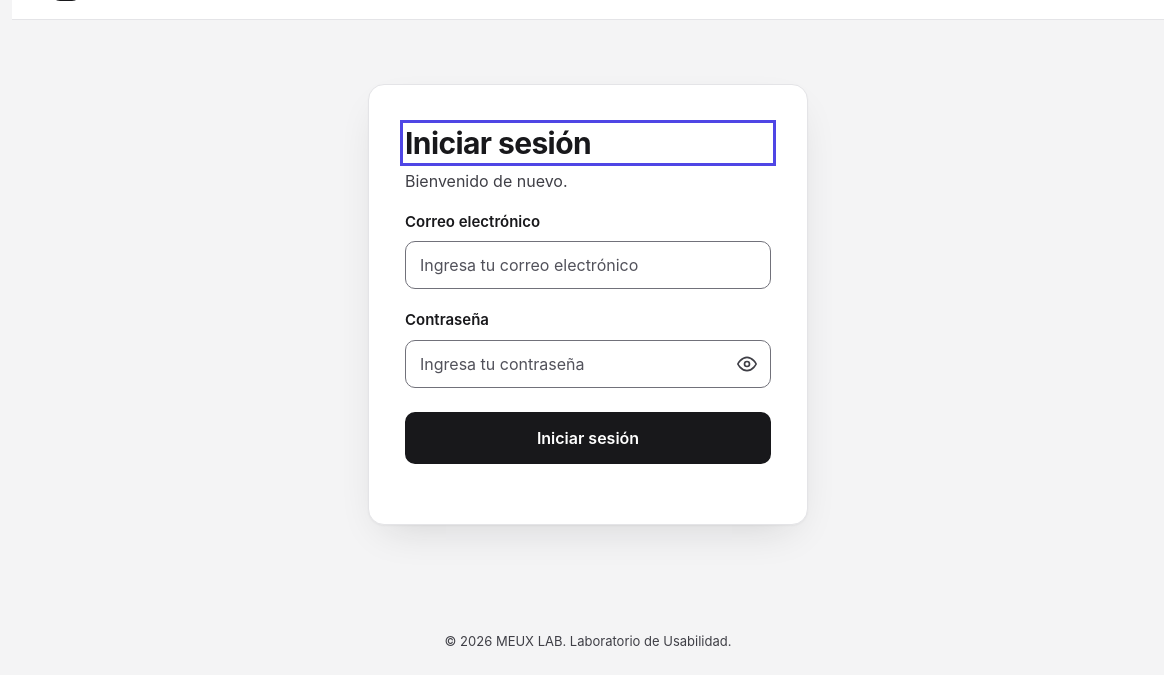
Test case: LoginScreen › displays a general message with role='alert' in response to a 401 error
The width and height of the screenshot is (1164, 675).
Type "usuario@correo.com" into the field labelled "Correo electrónico" at (588,265), box 405,241 -> 771,289
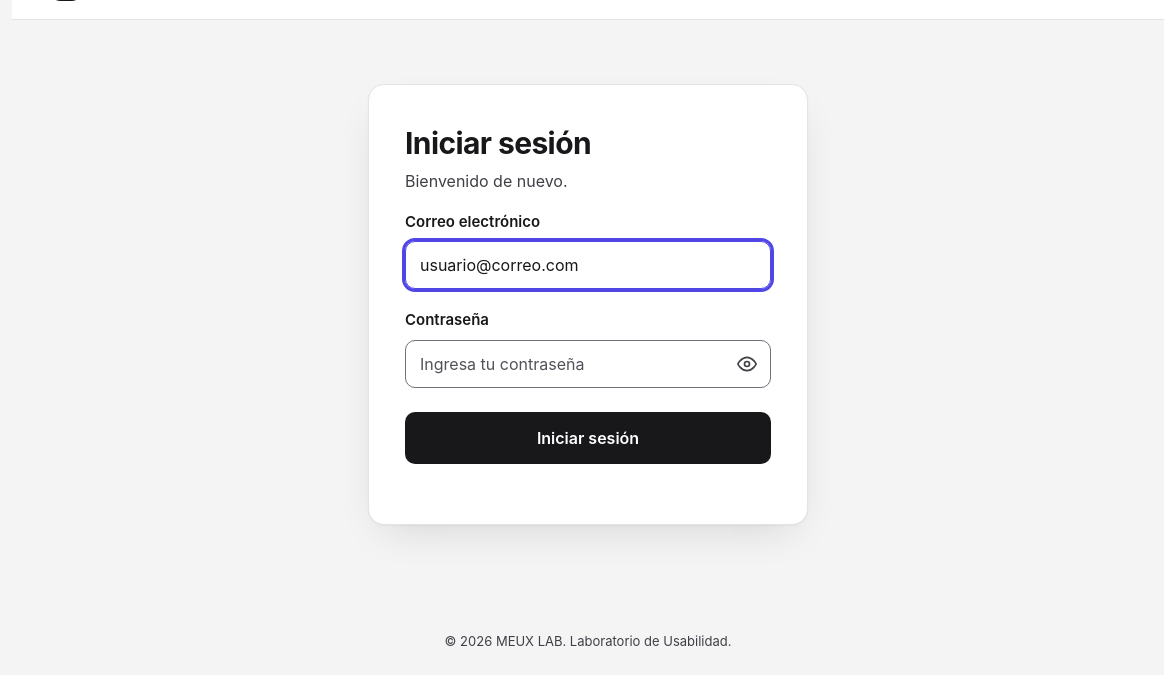
Type "clave-malvada" into the password field labelled "Contraseña" at (588,364), box 405,340 -> 771,388
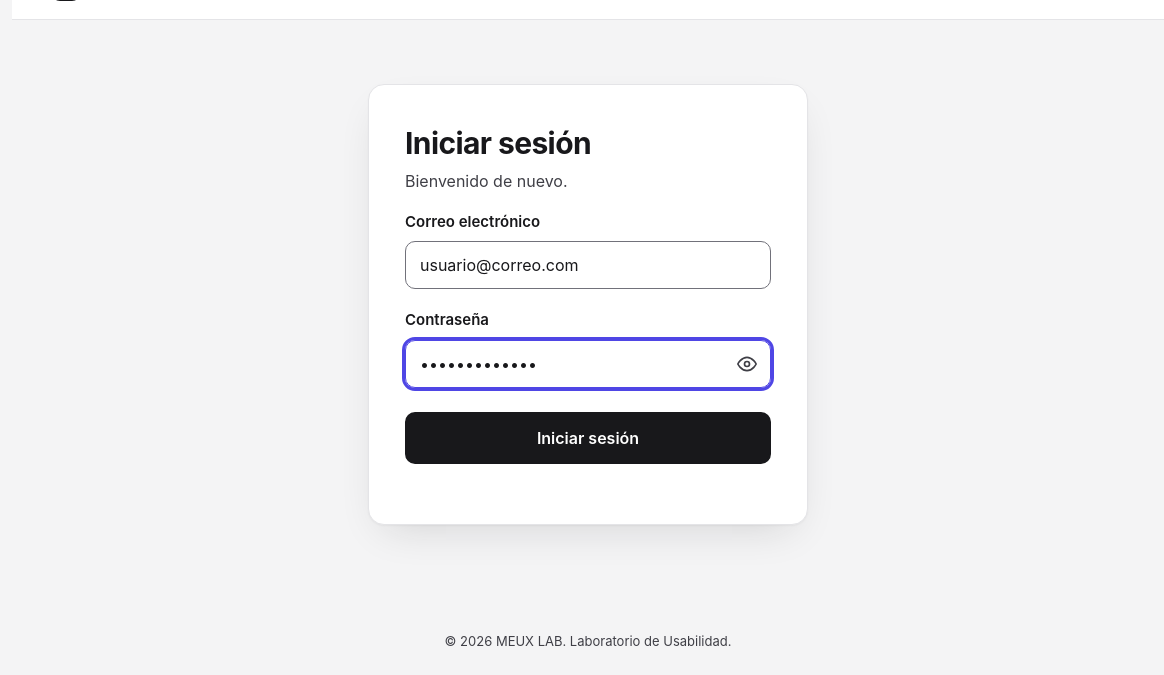
Click the button "Iniciar sesión" at (588,438), box 405,412 -> 771,464
(page scrolled)
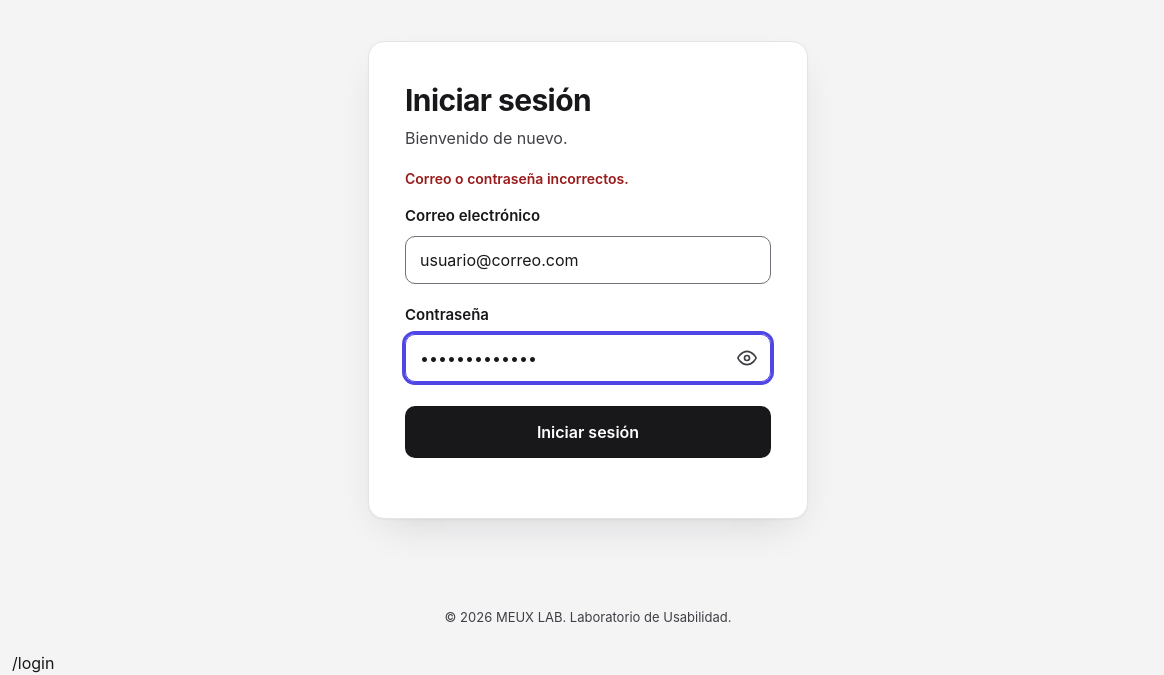
Expected: the text with test id "location-pathname" reads "/login", 12,653 -> 54,673
Expected: the message reads "Correo o contraseña incorrectos.", 405,170 -> 629,187
